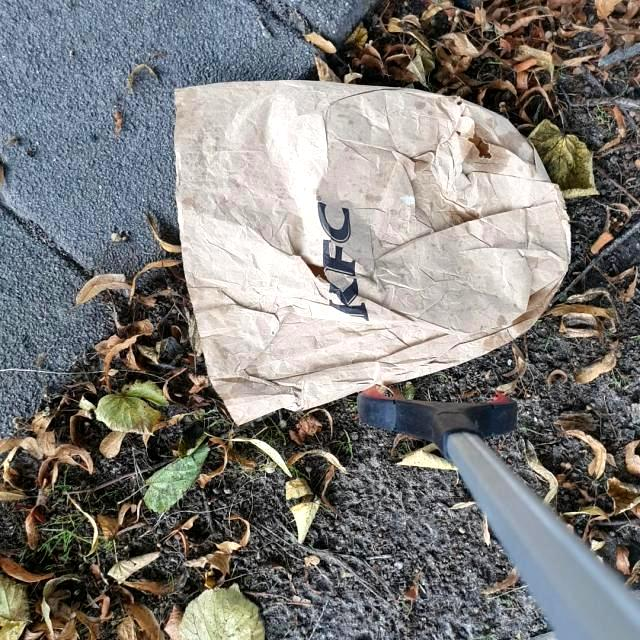Paper: (171, 77, 571, 430)
